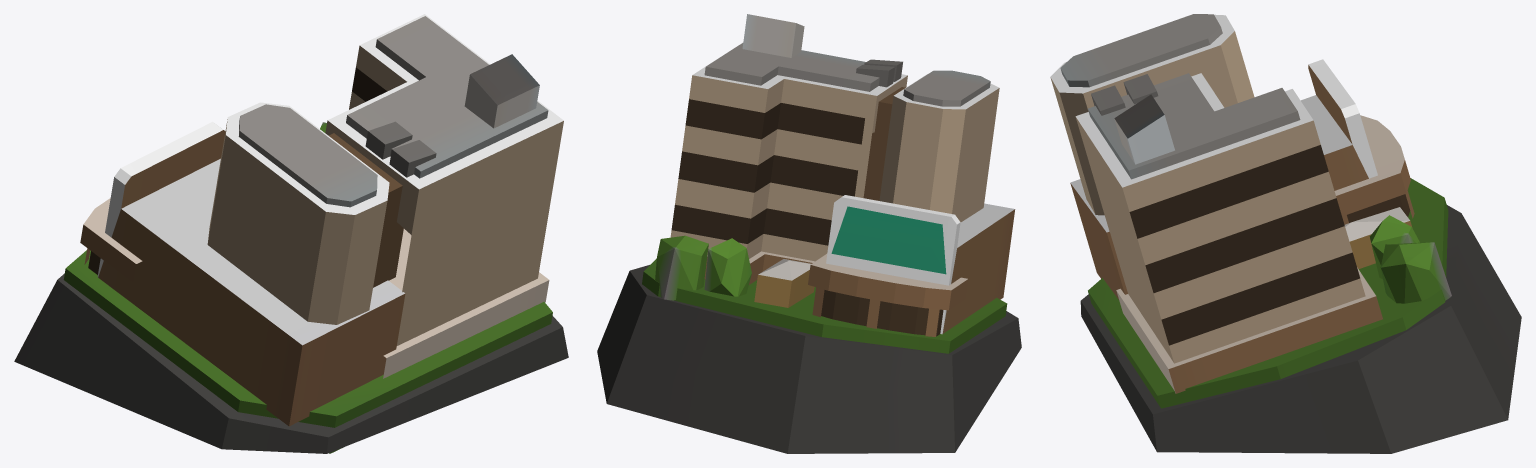
Rendered from city_lv05_A.fbx.
3 renders of one model, left to right at view 1: azimuth 30°, elevation 25°; view 2: azimuth 150°, elevation 25°; view 3: azimuth 270°, elevation 25°, orthographic. The views are drawn at different scales.
Visible parts, largest first — view 1: city_lv05_A; view 2: city_lv05_A; view 3: city_lv05_A.
Part boxes in pixels (x1,y1,x2,y2): city_lv05_A: (14, 14, 568, 453); city_lv05_A: (597, 14, 1021, 453); city_lv05_A: (1050, 14, 1521, 453).
Bounding box in the file's own units: 3743 × 2730 × 3629.
